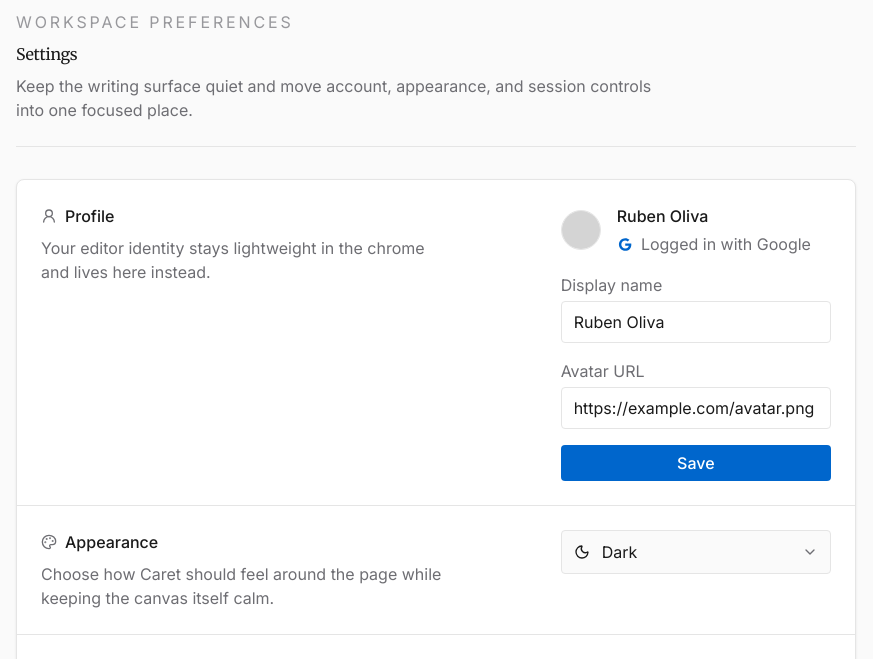
Test: SettingsPage › saves profile changes via supabase
Replace the text in the field labelled "Display name" with "New Name" at (696, 322), box x1=561 y1=300 x2=831 y2=342
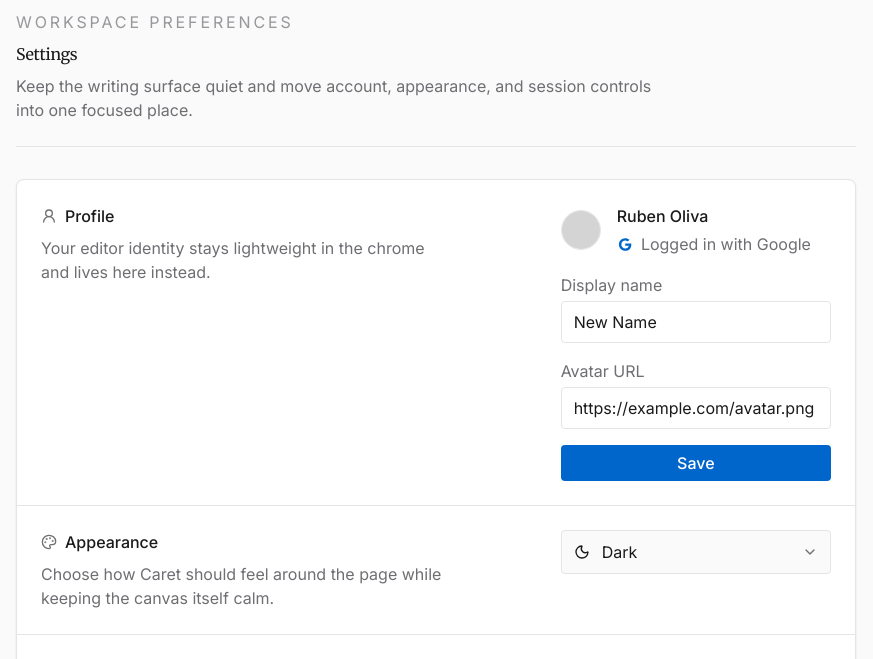
Click the button "Save".
click(696, 462)  # box x1=561 y1=444 x2=831 y2=480
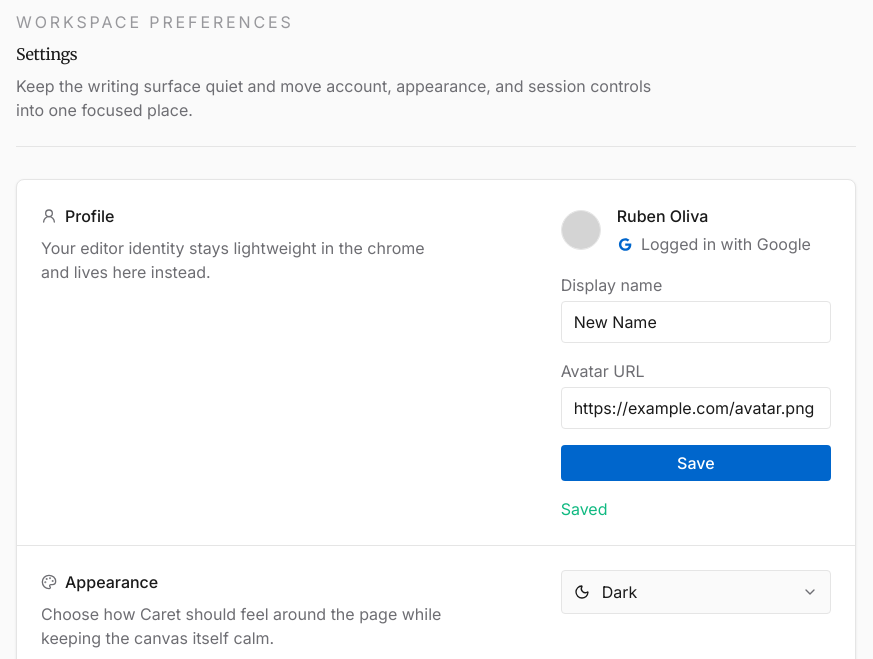
Expected: the text "Saved" is shown, x1=561 y1=498 x2=607 y2=518
